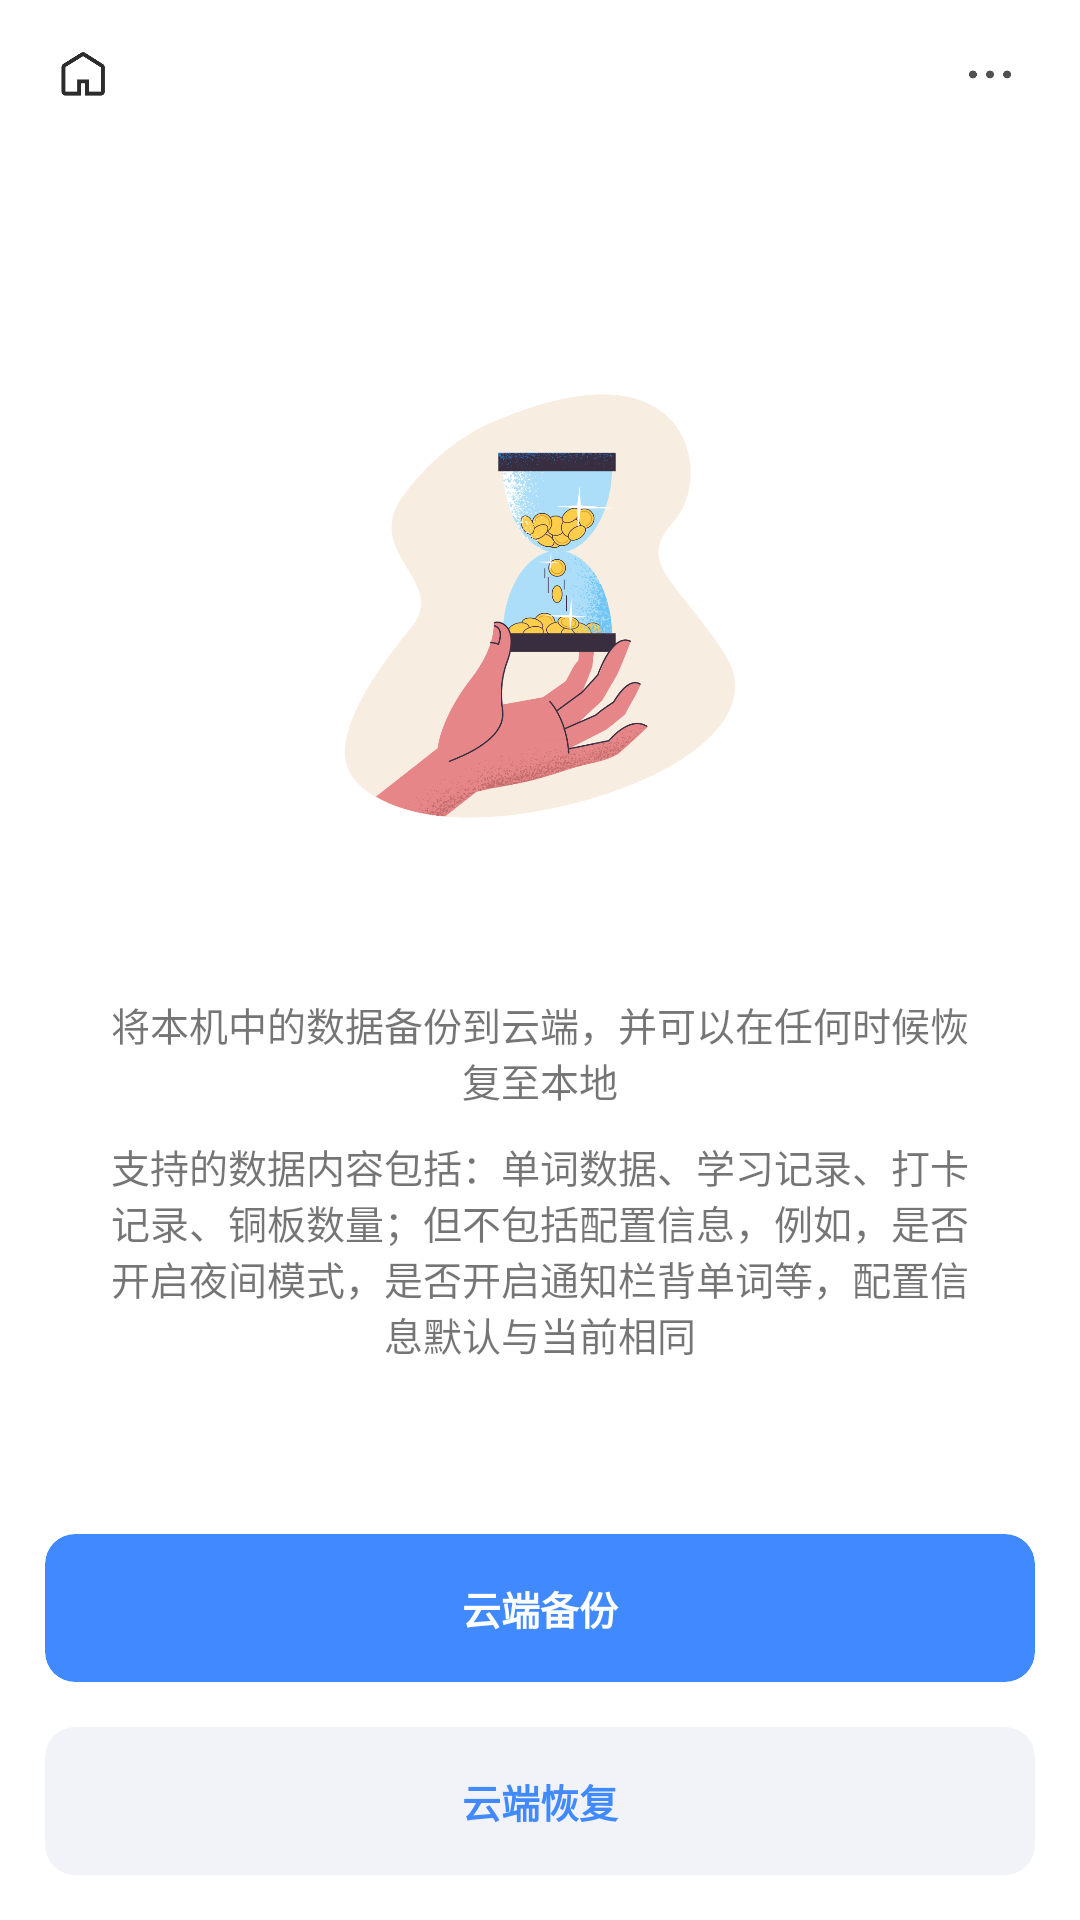

Locate icon controls on the screen. Image size 1080 x 1920, boxes as (x1, y1, x2, y2).
home: (61, 52, 105, 96)
